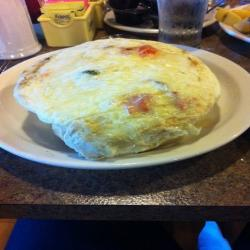omelette: (24, 35, 226, 164)
